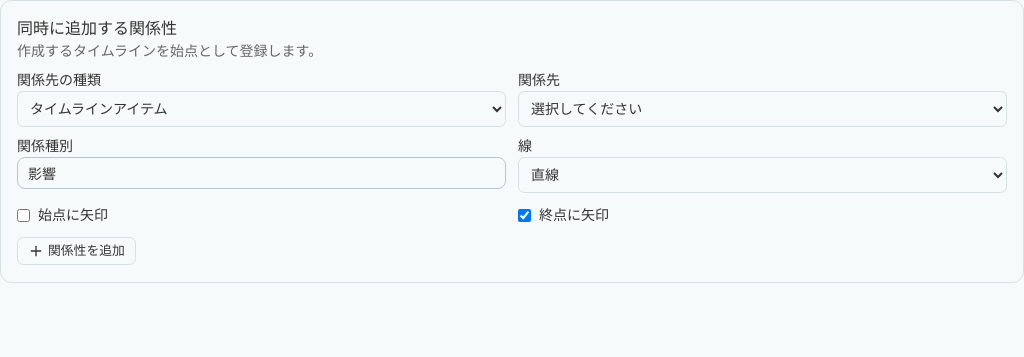
Test: new entity relationship drafts › adds and removes a styled relationship before the entity is saved
The image size is (1024, 357).
Select "BBBB" in the dropdown labelled "関係先" at (762, 109), box left=518, top=91, right=1007, bottom=127
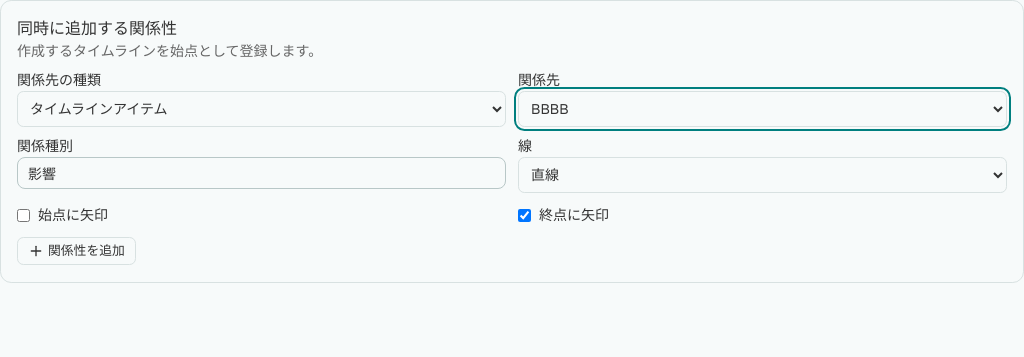
Replace the text in the field labelled "関係種別" with "思想的継承" at (262, 173), box left=17, top=157, right=506, bottom=189
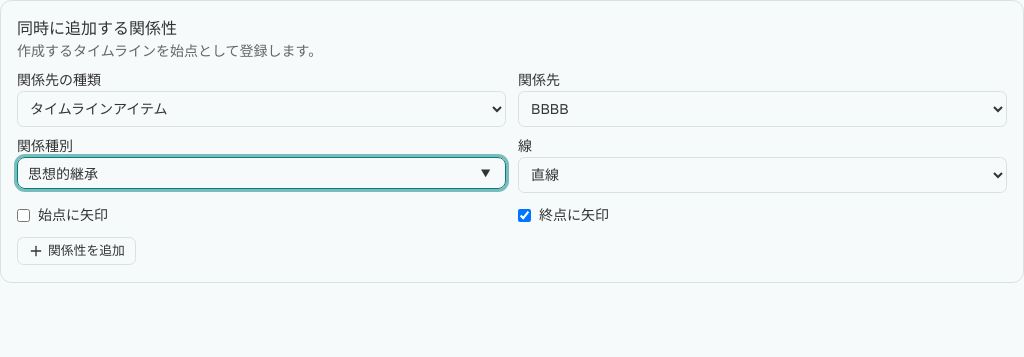
Select "二重線" in the dropdown labelled "線" at (762, 175), box left=518, top=157, right=1007, bottom=193
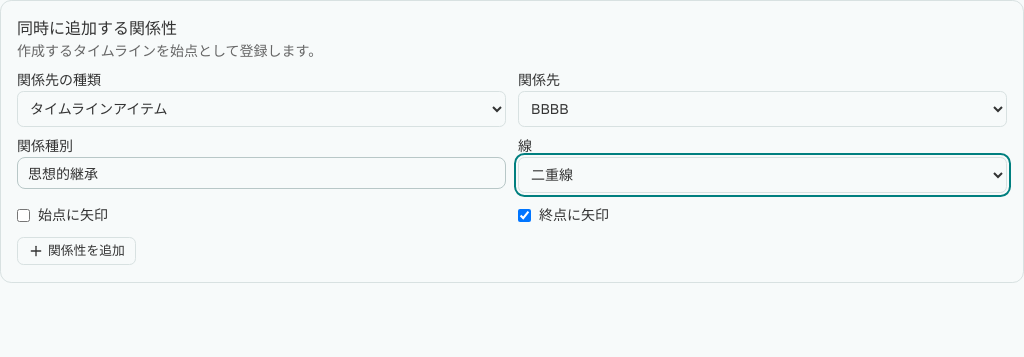
Click the checkbox labelled "終点に矢印" at (524, 215), box left=518, top=208, right=531, bottom=222
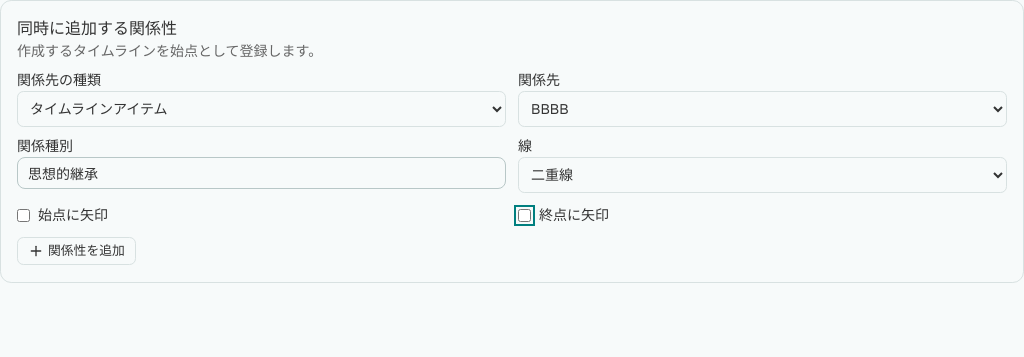
Click the button "関係性を追加" at (76, 251), box left=17, top=237, right=136, bottom=265
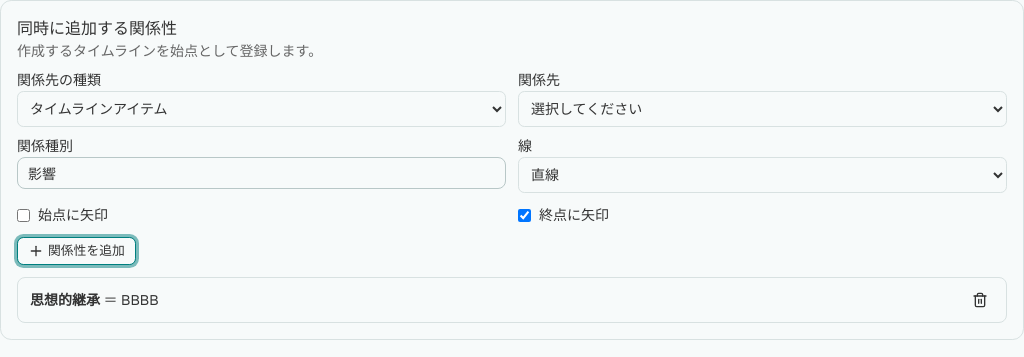
Result: the text "思想的継承" is shown at left=30, top=291, right=100, bottom=309
Click the button named "思想的継承の関係性を削除" at (980, 300), box left=966, top=286, right=994, bottom=314
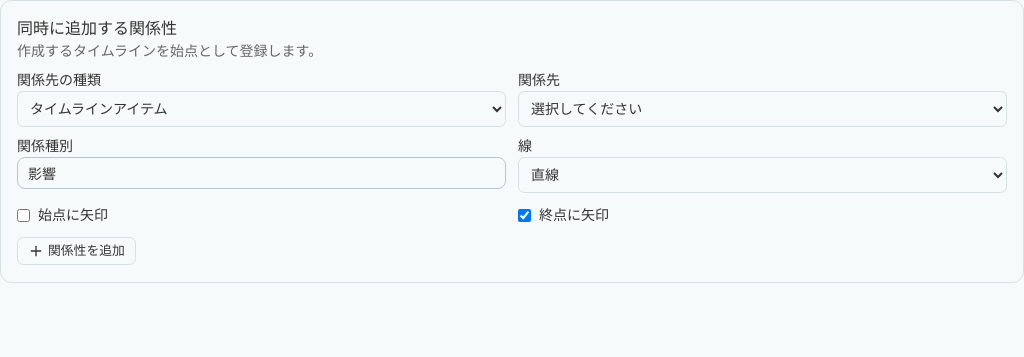
Result: the text "思想的継承" is gone
